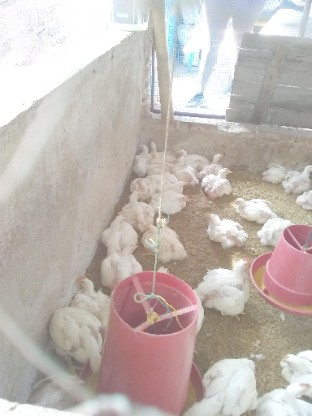Pollos: (192, 351, 261, 416), (193, 256, 254, 318), (52, 304, 103, 374), (256, 375, 312, 416), (95, 240, 142, 286), (141, 224, 188, 266), (201, 211, 248, 249), (273, 339, 312, 382), (70, 272, 107, 317), (108, 190, 153, 225), (228, 192, 269, 219), (258, 217, 295, 245), (99, 213, 130, 246), (150, 170, 187, 197), (283, 163, 312, 192), (150, 192, 192, 212), (202, 170, 232, 197), (257, 156, 287, 181), (173, 157, 198, 184), (128, 174, 150, 195), (134, 141, 150, 169), (175, 147, 201, 163), (205, 151, 224, 170), (297, 188, 312, 210), (147, 138, 160, 150), (149, 150, 161, 162)
